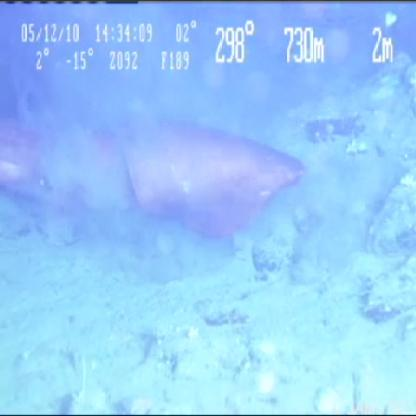Bio: (1, 106, 311, 246)
